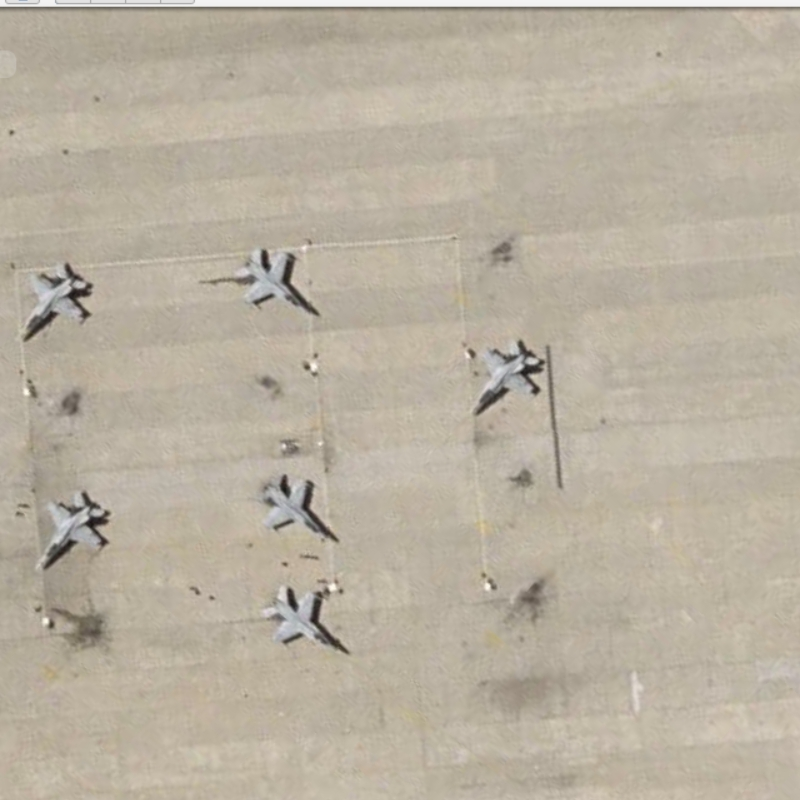A16: (249, 575, 347, 663), (248, 465, 341, 555), (31, 487, 113, 578), (230, 244, 321, 324), (470, 336, 550, 423), (18, 260, 92, 348)
